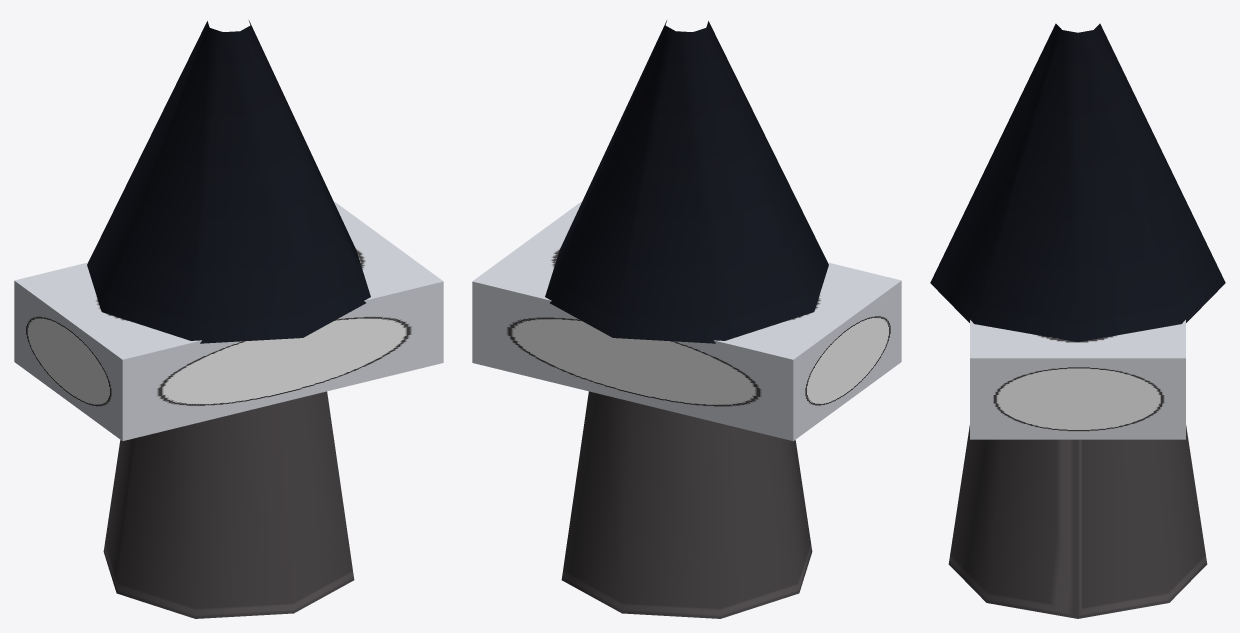
Rendered from armor_shadow_mail.glb.
3 renders of one model, left to right at view 1: azimuth 30°, elevation 25°; view 2: azimuth 150°, elevation 25°; view 3: azimuth 270°, elevation 25°, orthographic.
Visible parts, largest first — view 1: armor_shadow_mail; view 2: armor_shadow_mail; view 3: armor_shadow_mail.
Part boxes in pixels (<box>): armor_shadow_mail: <box>14,20,443,618</box>; armor_shadow_mail: <box>472,20,901,618</box>; armor_shadow_mail: <box>930,23,1225,618</box>.
Size of the model in its own units: 0.65 by 1.05 by 0.52.
Materials: 1 (1 with a texture image).
